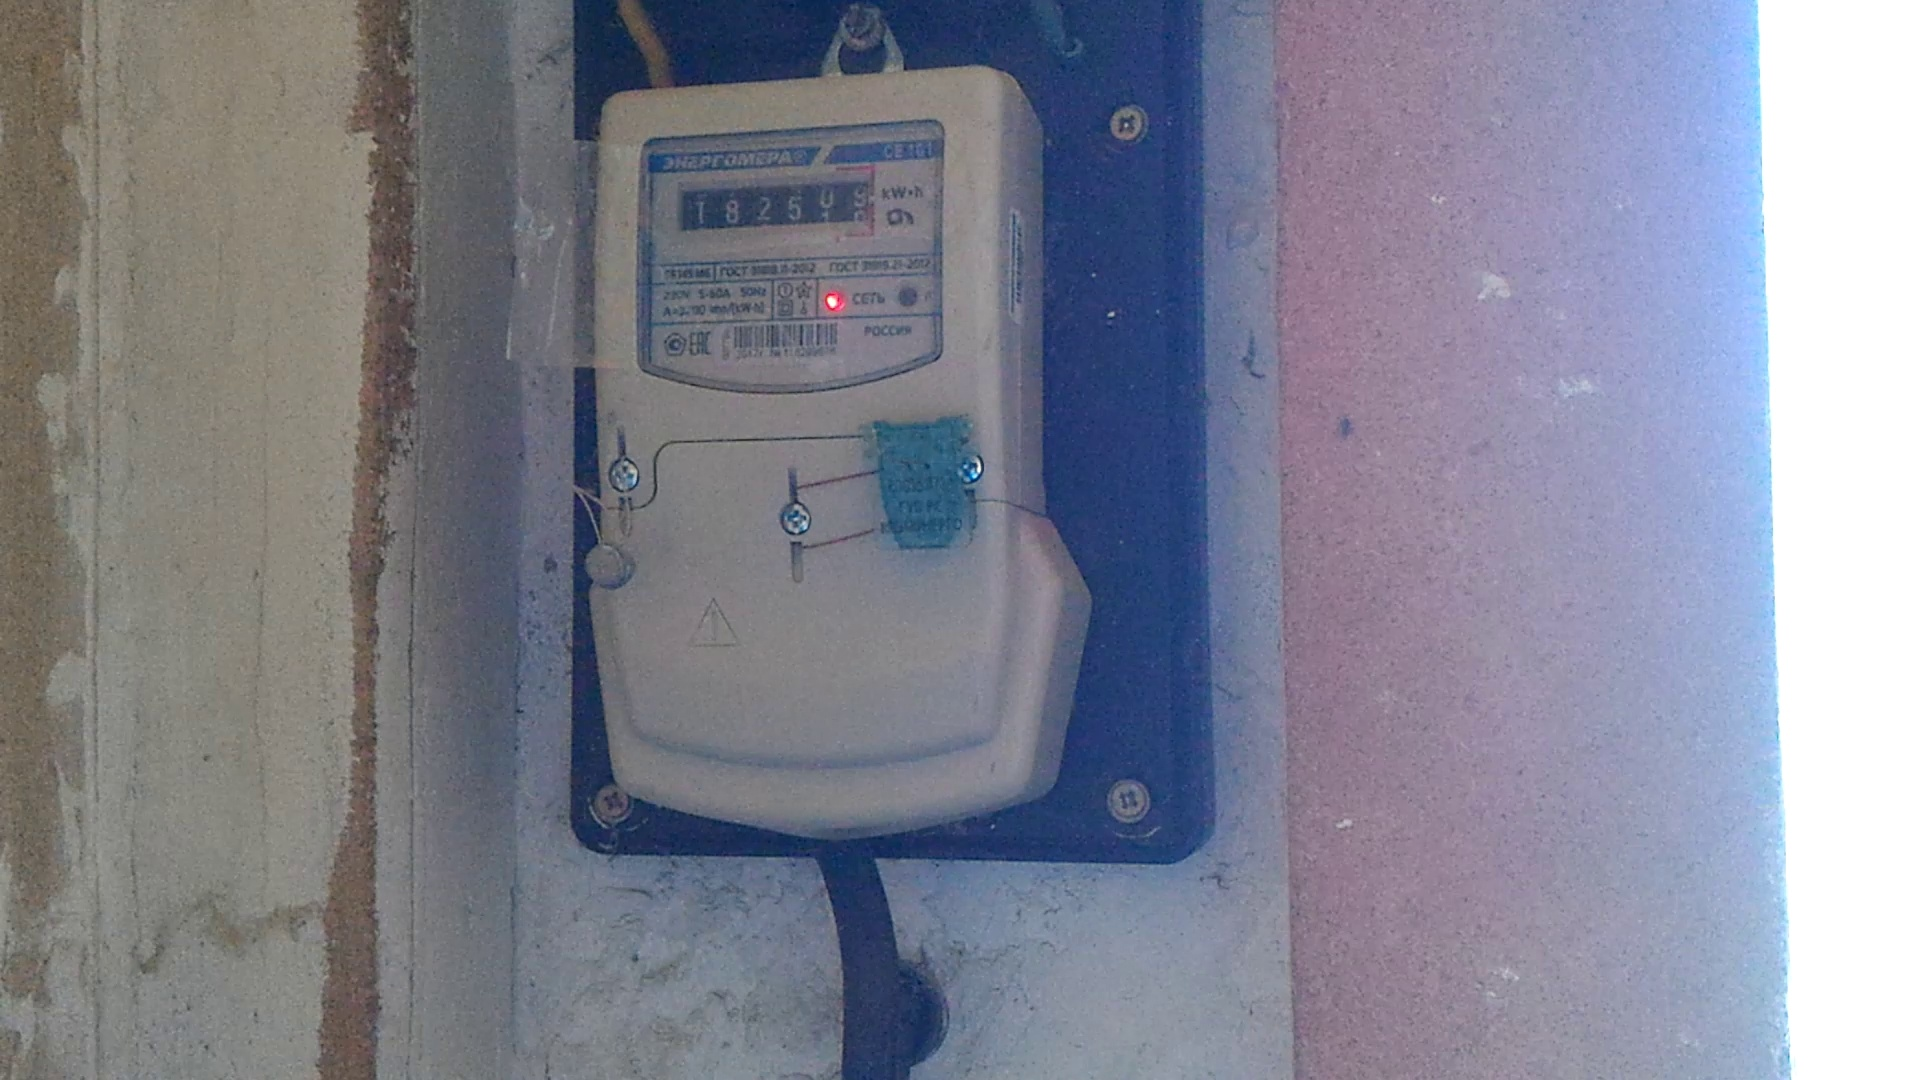counter: (597, 73, 1021, 819)
counter_screen: (680, 179, 873, 229)
